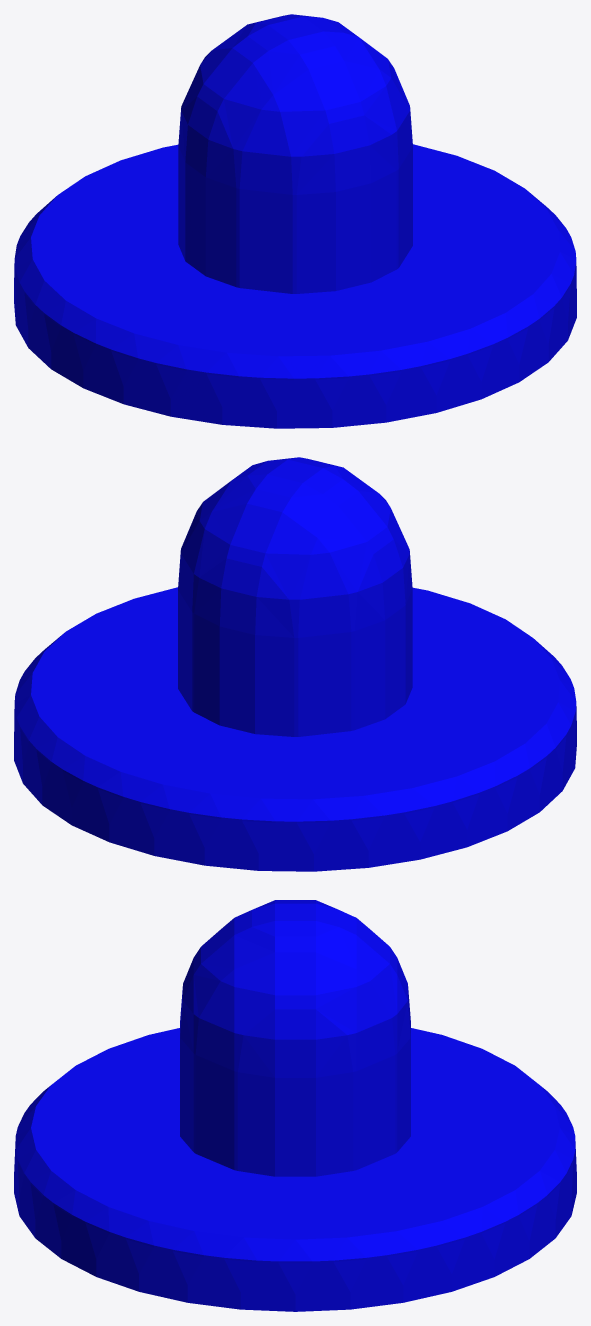
The model's file is player2_paddle.dae.
3 views of the same model, one above another, from view 1: azimuth 30°, elevation 25°; view 2: azimuth 150°, elevation 25°; view 3: azimuth 270°, elevation 25° (orthographic).
Parts seen in each view (by area): view 1: node_0; view 2: node_0; view 3: node_0.
Part boxes in pixels (bbox=[...]): node_0: bbox=[14, 14, 576, 428]; node_0: bbox=[14, 457, 576, 871]; node_0: bbox=[14, 900, 576, 1311].
Bounding box in the file's own units: 5.53 × 3.04 × 5.53.
